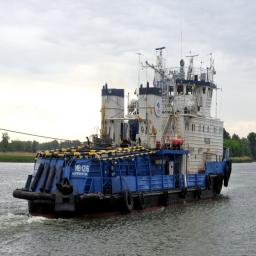tugboat: (13, 40, 235, 222)
